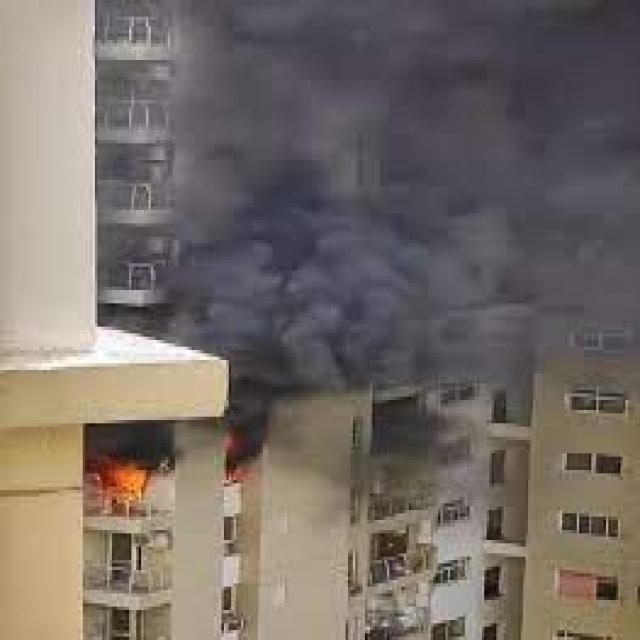fire: (83, 452, 153, 517)
